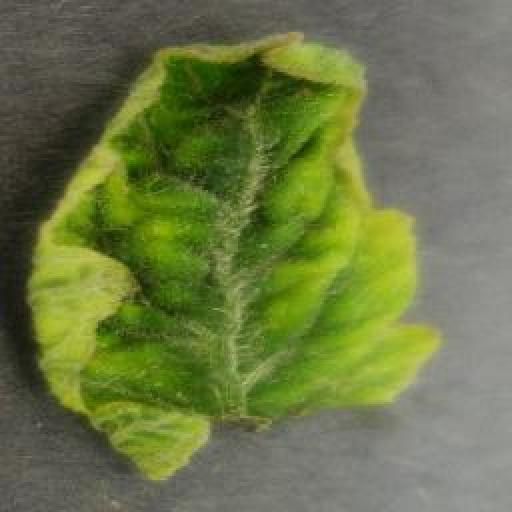disease_tomato: (24, 30, 441, 482)
